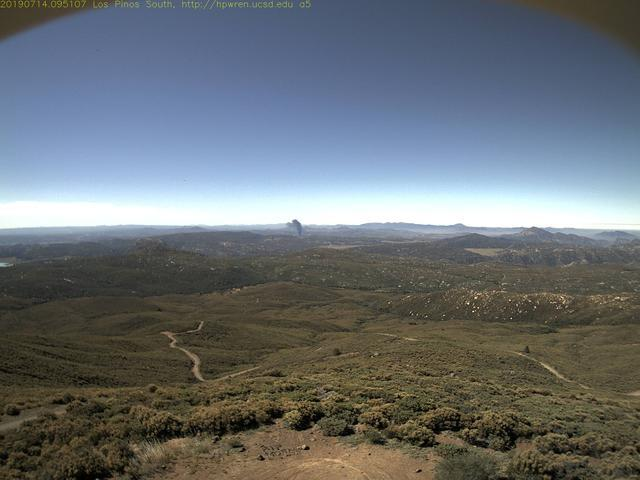smoke: (282, 217, 307, 242)
